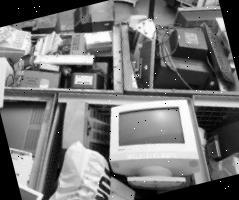electronic: (102, 62, 239, 200), (126, 22, 188, 108), (26, 34, 106, 90)
